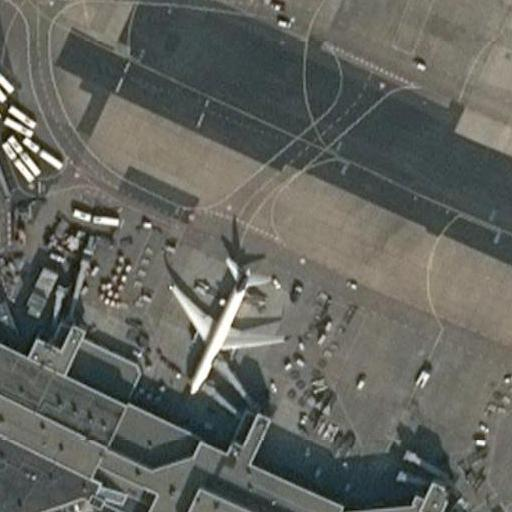Aircraft: (166, 252, 276, 399)
